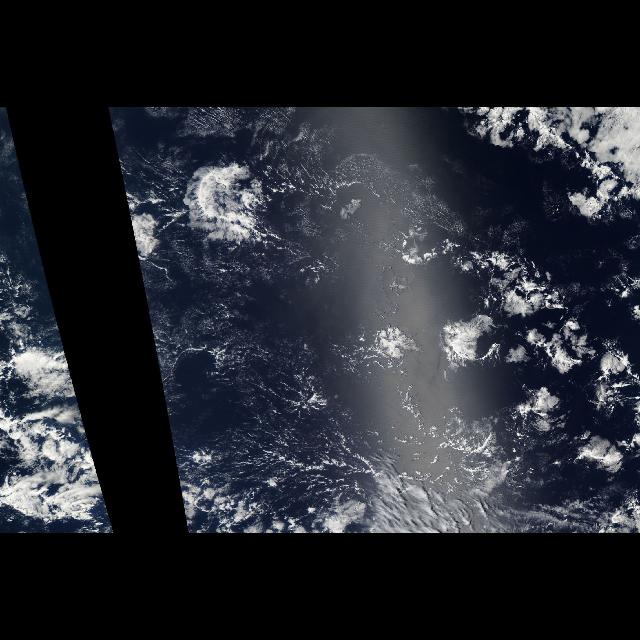Sugar: (259, 110, 475, 240), (171, 260, 359, 392)
